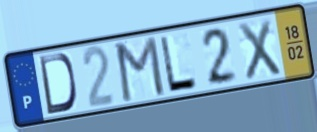2: (200, 25, 240, 89), (81, 44, 117, 112)
D: (37, 51, 79, 117)
L: (158, 34, 201, 94)
M: (114, 33, 167, 104)
X: (235, 17, 284, 84)
